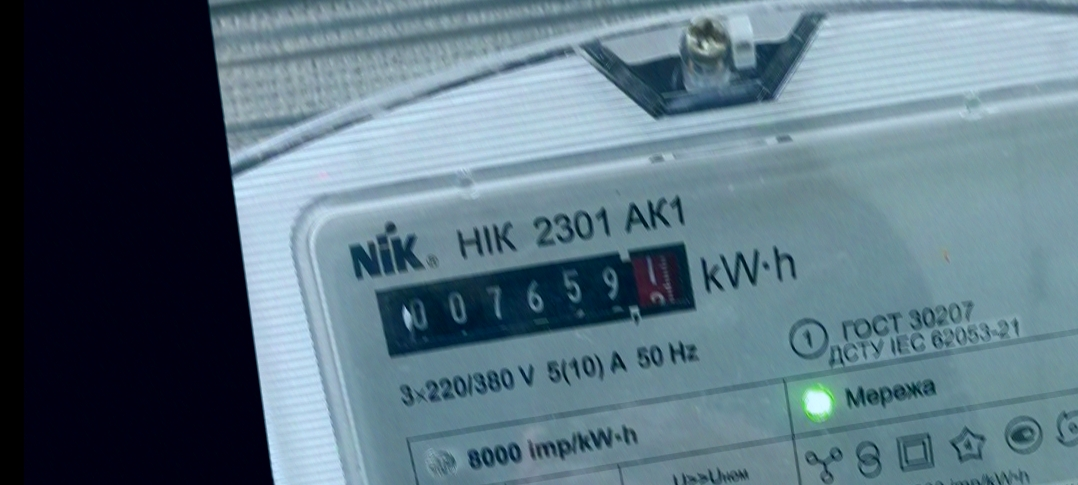0: (446, 286, 474, 326), (407, 292, 433, 333)
1: (642, 250, 663, 287)
5: (562, 265, 587, 304)
6: (523, 275, 550, 314)
7: (483, 281, 509, 321)
9: (600, 262, 626, 301)
screen: (367, 233, 709, 366)
